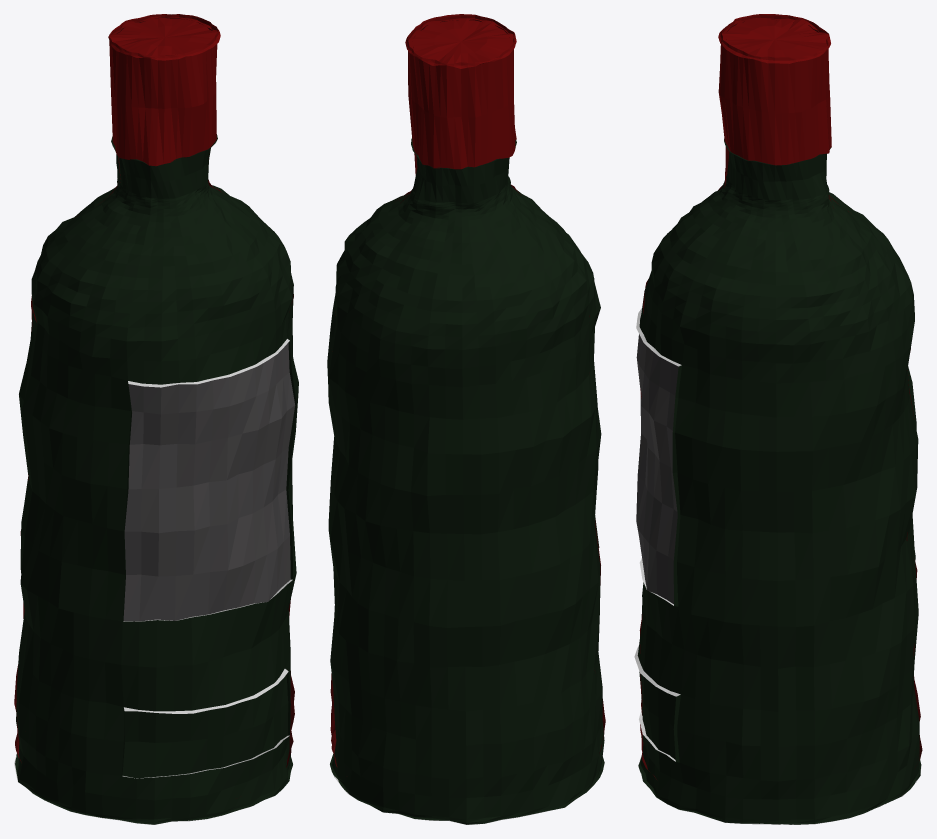
Rendered from crush_low_1.obj.
3 views of the same model, side by side, from view 1: azimuth 30°, elevation 25°; view 2: azimuth 150°, elevation 25°; view 3: azimuth 270°, elevation 25° (orthographic).
Parts seen in each view (by area): view 1: model; view 2: model; view 3: model.
Part boxes in pixels (left/top/right/bottom): model: left=14, top=14, right=298, bottom=824; model: left=327, top=14, right=605, bottom=824; model: left=634, top=14, right=922, bottom=824.
Bounding box in the file's own units: 0.0659 × 0.1895 × 0.0667.
1 material, 1 textured.
